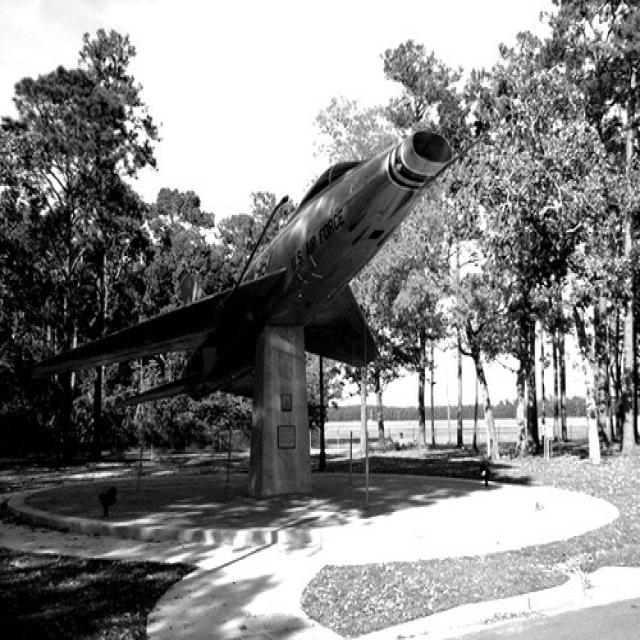aeroplane: (32, 126, 453, 404)
